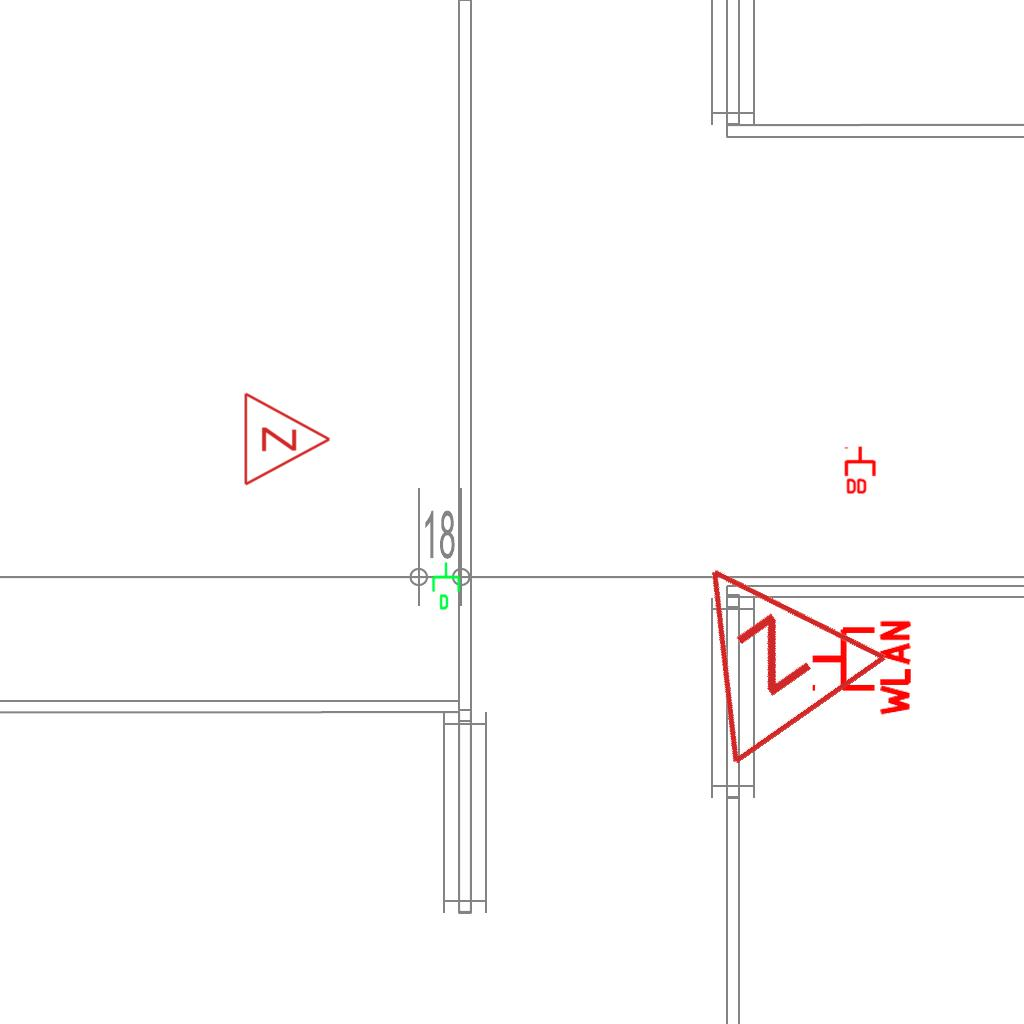Datenanschluss_einfach: (430, 561, 464, 611)
Datenanschluss_zweifach: (844, 445, 878, 496)
WLAN: (808, 616, 913, 720)
Zimmersignalleuchte: (623, 504, 899, 782), (237, 389, 337, 487)
